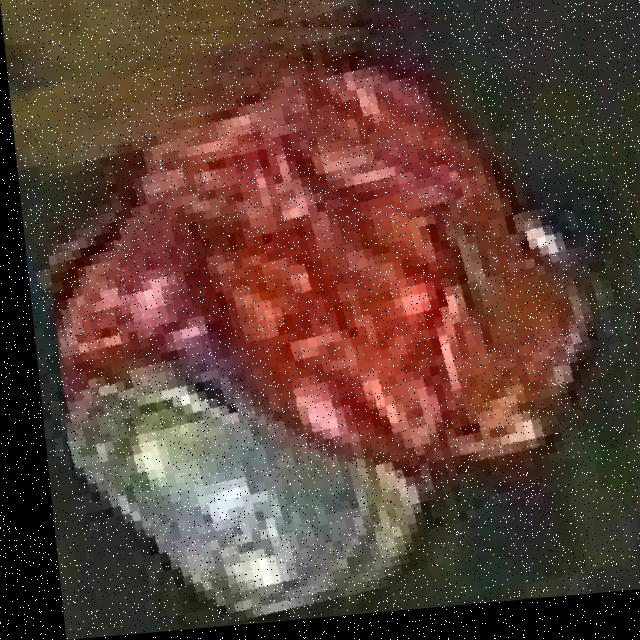litter: (43, 28, 627, 629)
